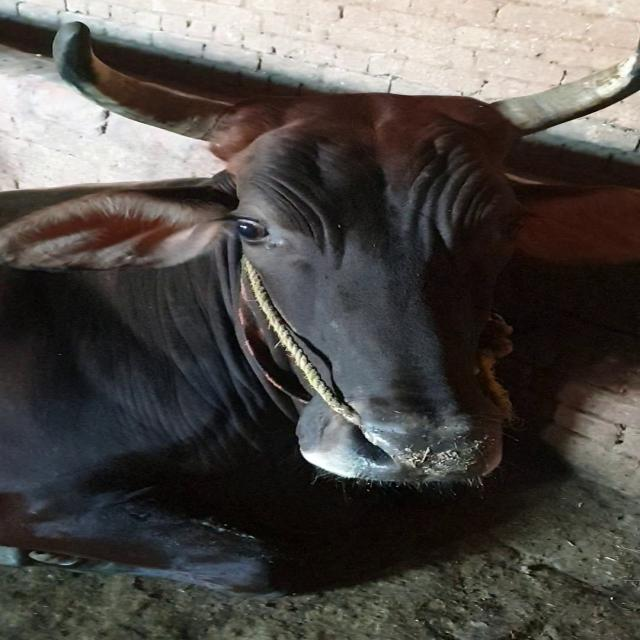cowFace: (213, 102, 529, 488)
